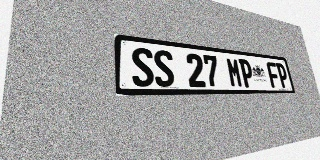2: (185, 53, 206, 87)
7: (202, 55, 221, 87)
F: (266, 62, 281, 88)
M: (226, 57, 243, 87)
P: (238, 59, 255, 87), (275, 63, 290, 88)
S: (131, 47, 155, 87), (153, 49, 175, 87)
